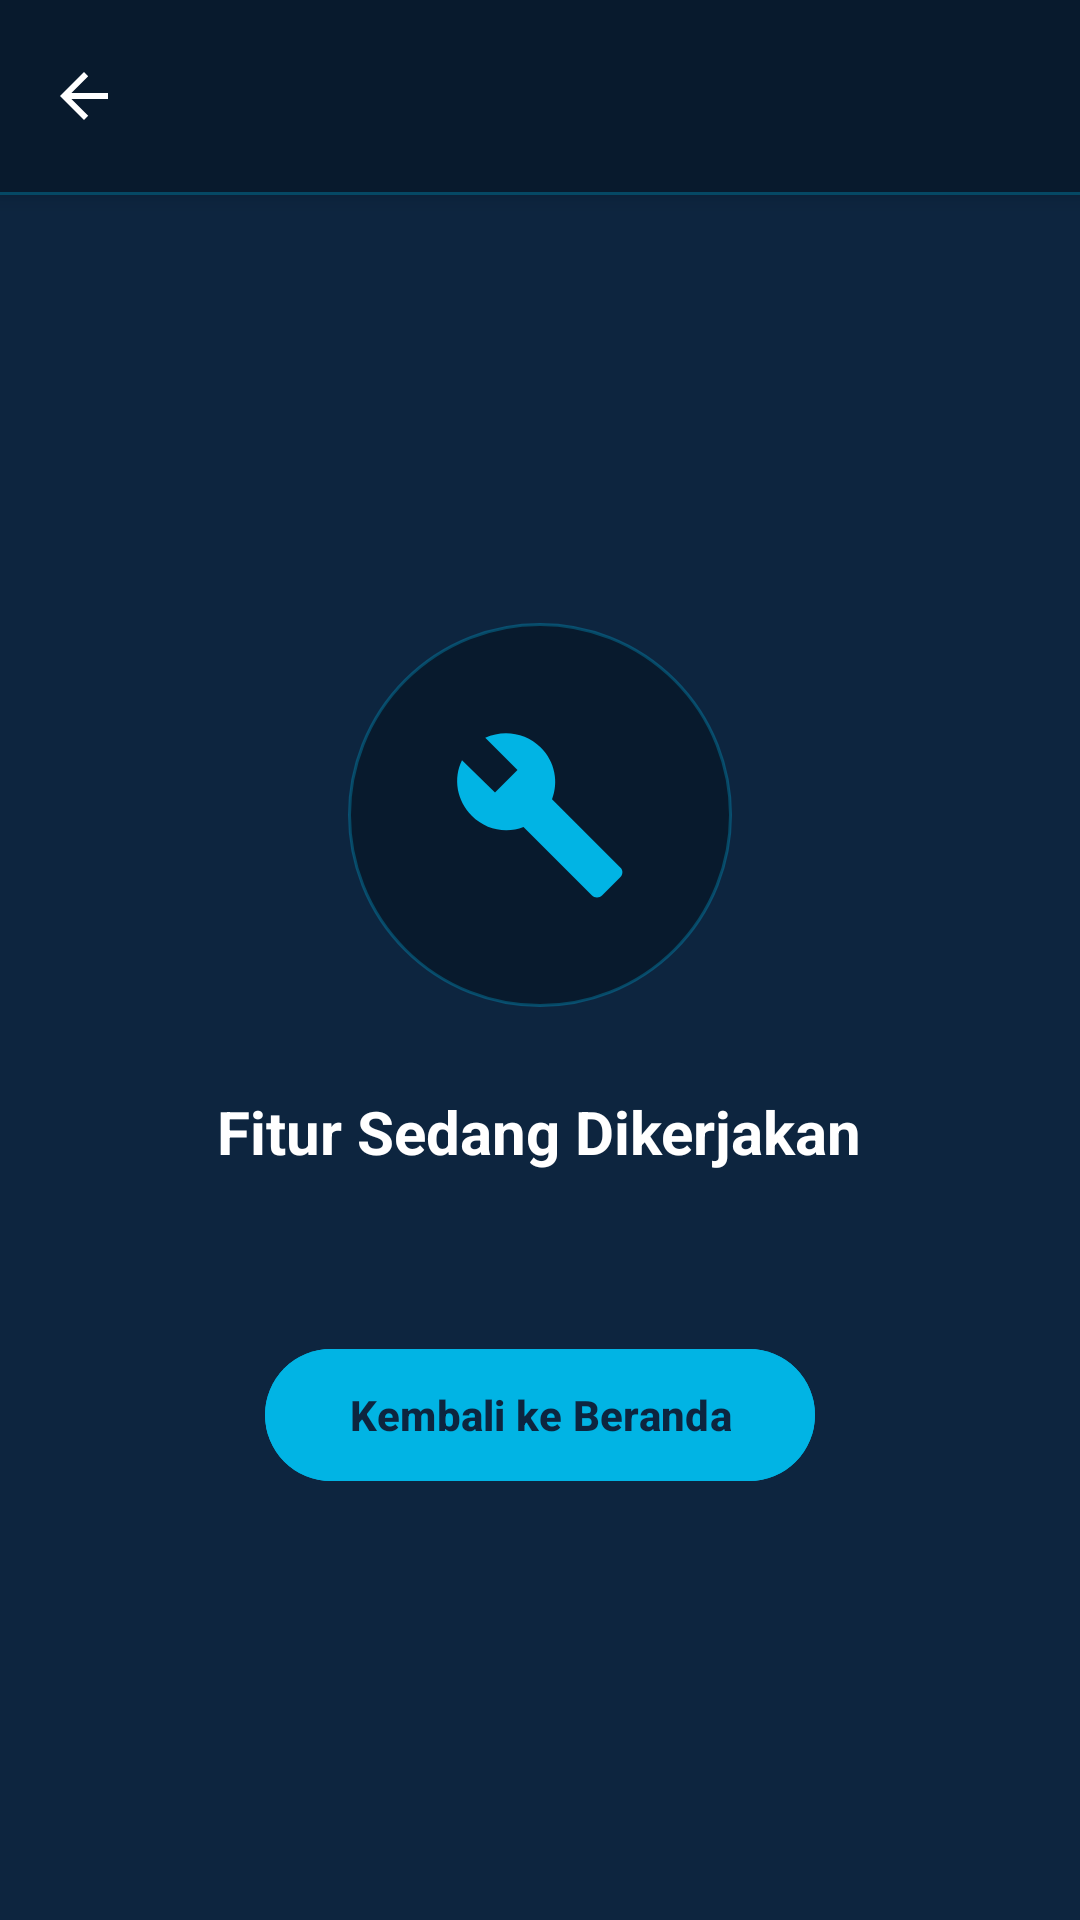

Screen size 1080w x 1920h. Icon name, then its center in pixels as (x,y):
construction: (540,815)
